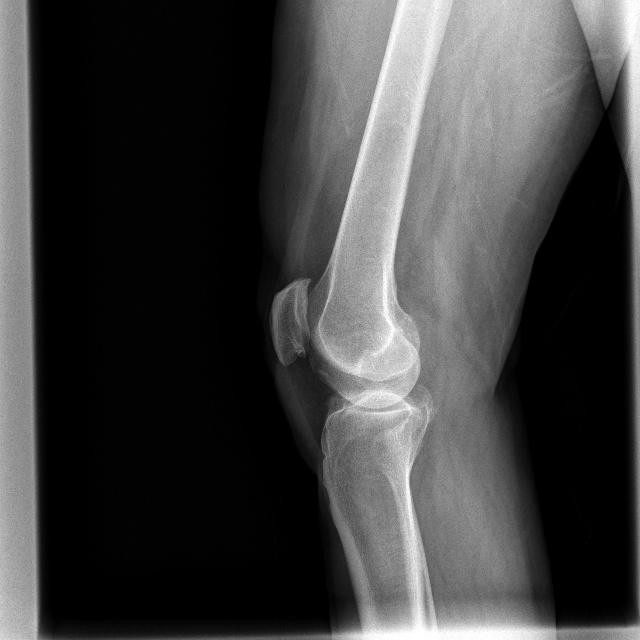Knee: (270, 274, 436, 474)
